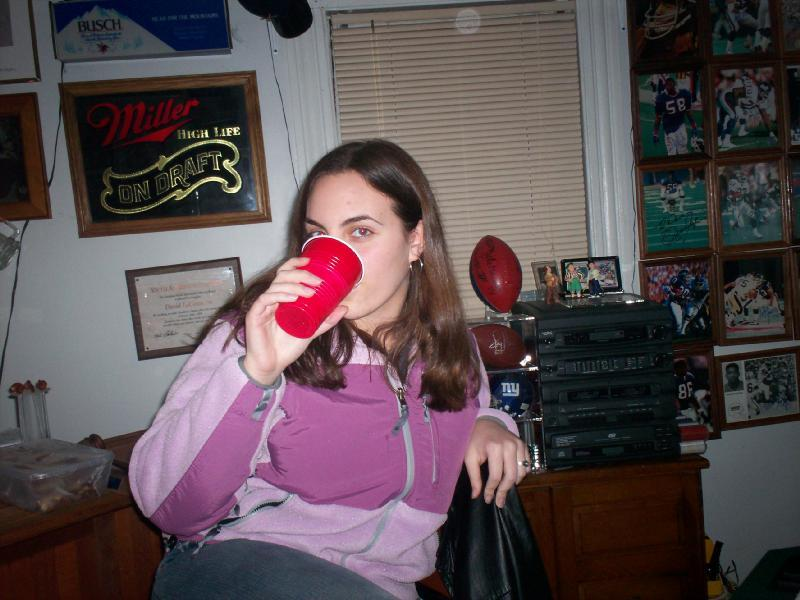person: (118, 136, 538, 598)
